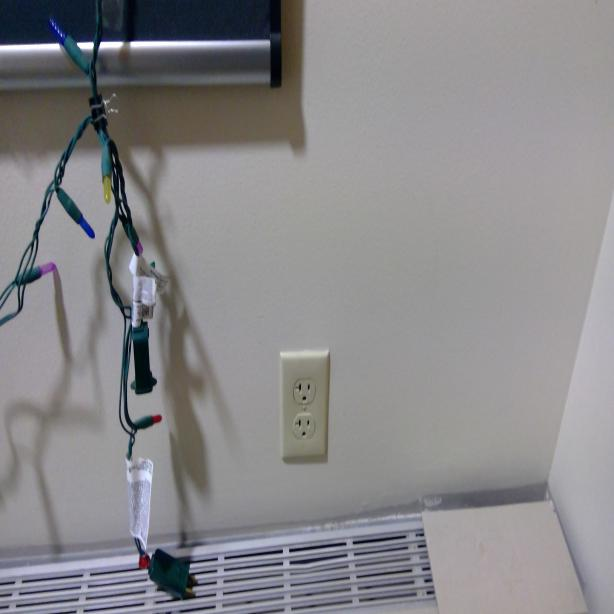typeb: (293, 379, 317, 406), (293, 416, 314, 438)
